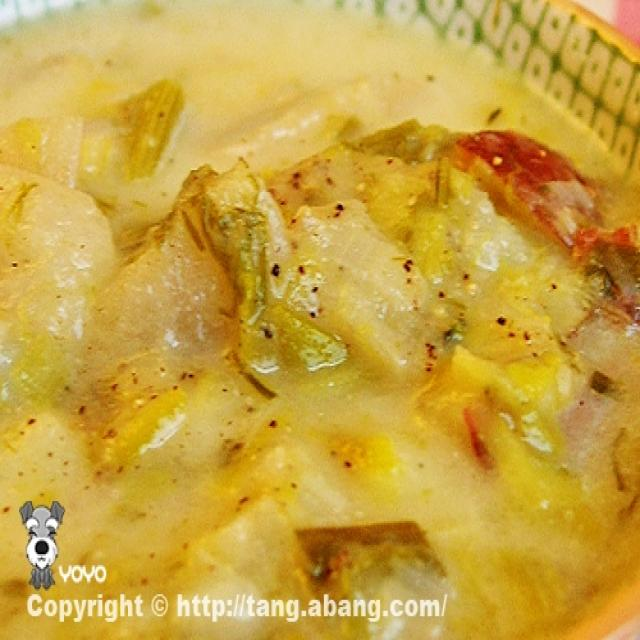汤锅炖物: (18, 42, 616, 614)
